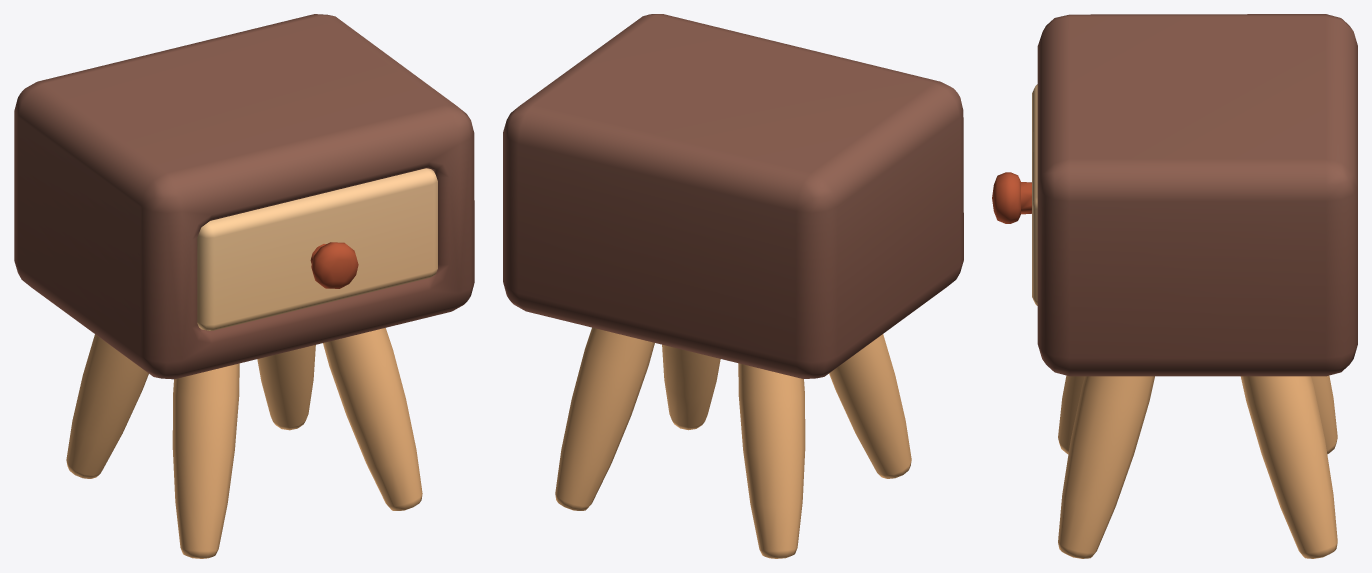
The model's file is Nightstand_02.glb.
The picture shows the model from 3 angles, left to right: view 1: azimuth 30°, elevation 25°; view 2: azimuth 150°, elevation 25°; view 3: azimuth 270°, elevation 25°; orthographic projection. The views are drawn at different scales.
Parts seen in each view (by area): view 1: Nightstand_02, Nightstand_02_Door; view 2: Nightstand_02; view 3: Nightstand_02, Nightstand_02_Door.
Boxes of the visible parts, x1,y1,x2,y2 form: Nightstand_02: (14,14,474,558); Nightstand_02_Door: (197,168,437,330); Nightstand_02: (503,14,963,558); Nightstand_02: (1037,14,1357,558); Nightstand_02_Door: (992,84,1037,305).
Bounding box in the file's own units: 0.5 × 0.575 × 0.4572.
1 material, 1 textured.
